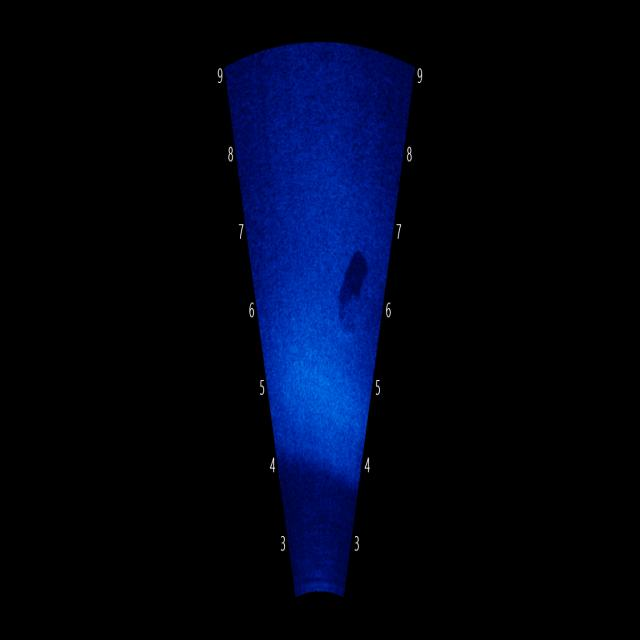square: (327, 238, 375, 358)
